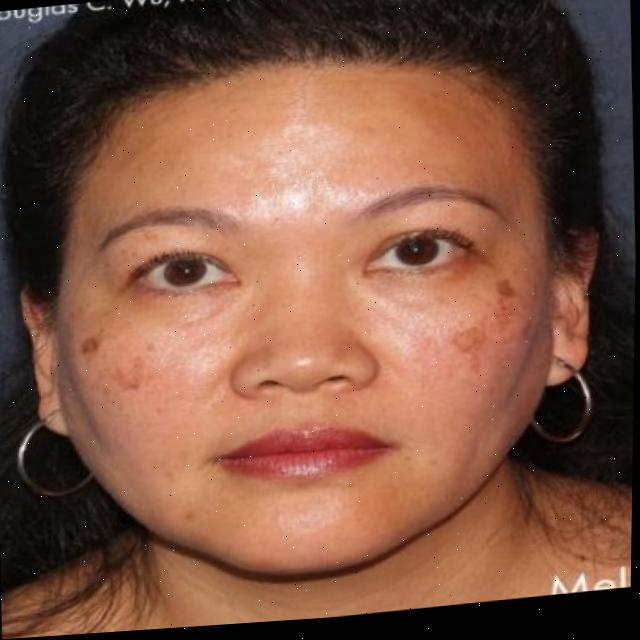Melasma: (83, 336, 154, 399), (443, 286, 516, 347)
